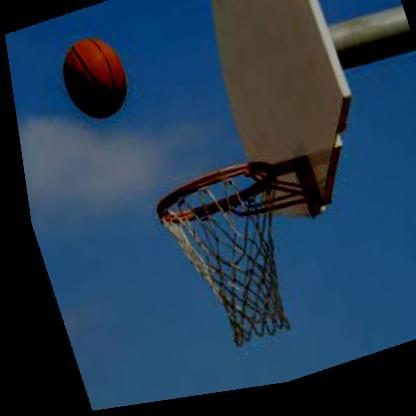basketball: (53, 32, 132, 126)
rim: (142, 157, 311, 364)
